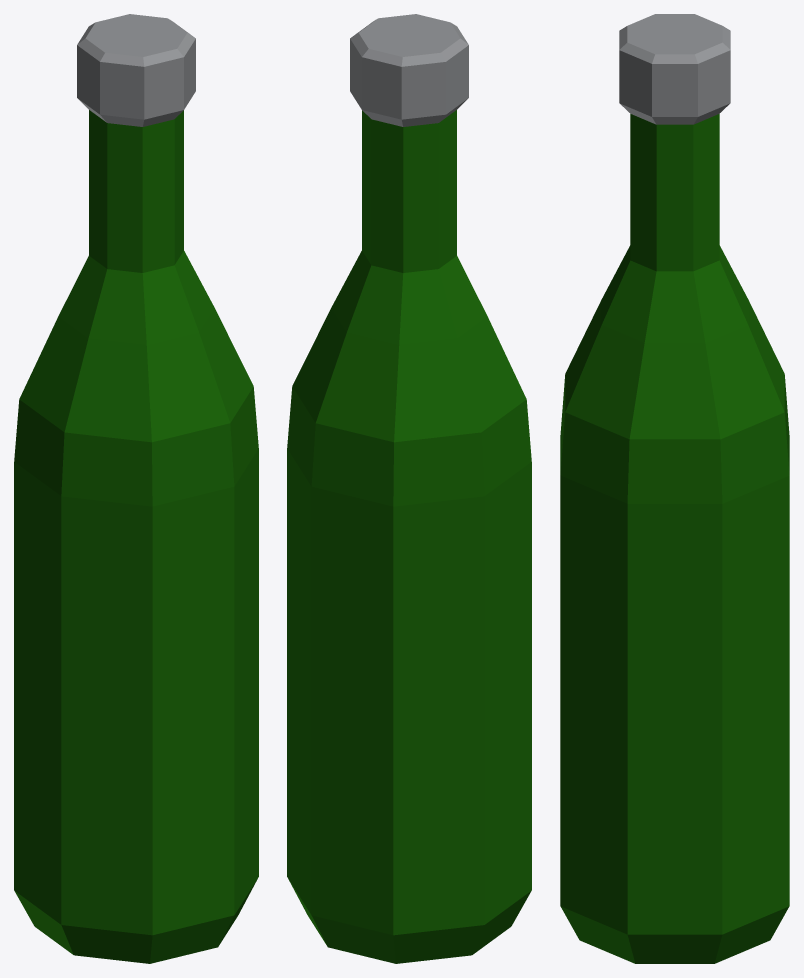
File: SM_Clutter_Bottle_Green_01.obj
The picture shows the model from 3 angles, left to right: view 1: azimuth 30°, elevation 25°; view 2: azimuth 150°, elevation 25°; view 3: azimuth 270°, elevation 25°; orthographic projection.
Visible parts, largest first — view 1: SM_Clutter_Bottle_Green_01; view 2: SM_Clutter_Bottle_Green_01; view 3: SM_Clutter_Bottle_Green_01.
Part boxes in pixels (x1,y1,x2,y2): SM_Clutter_Bottle_Green_01: (14, 14, 258, 963); SM_Clutter_Bottle_Green_01: (287, 14, 531, 963); SM_Clutter_Bottle_Green_01: (560, 14, 789, 963).
Bounding box in the file's own units: 0.0665 × 0.285 × 0.0665.
1 material, 1 textured.
